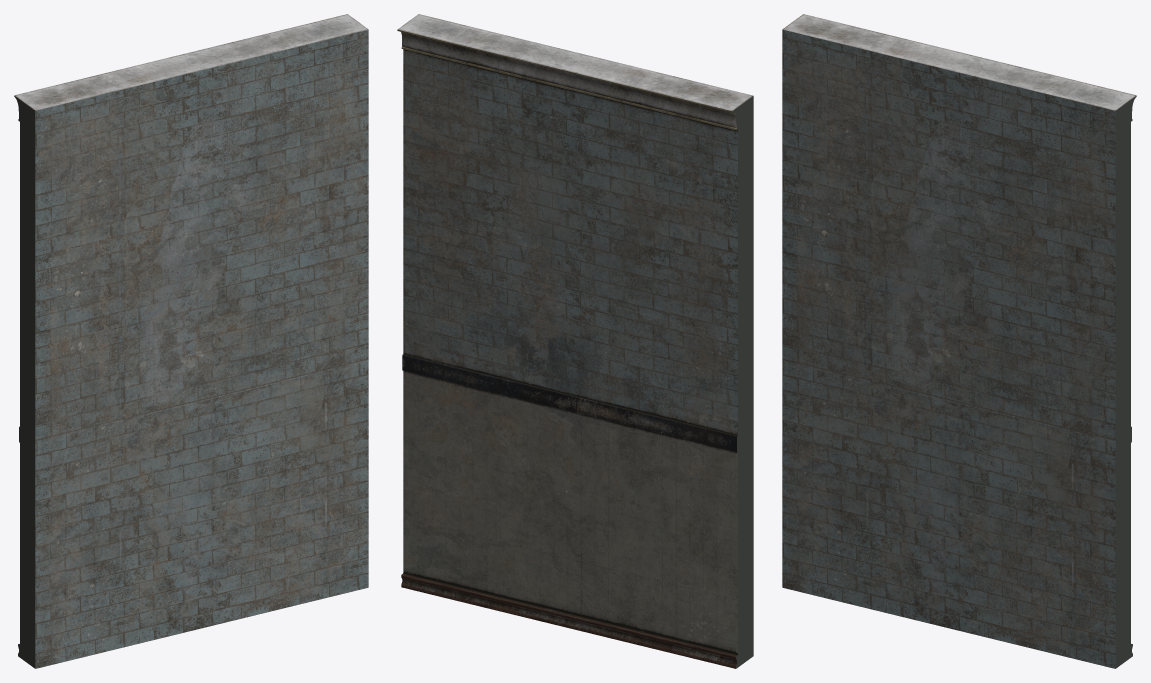
The model's file is wall_2.glb.
3 views of the same model, side by side, from view 1: azimuth 30°, elevation 25°; view 2: azimuth 150°, elevation 25°; view 3: azimuth 330°, elevation 25° (orthographic).
Visible parts, largest first — view 1: Null; view 2: Null; view 3: Null.
Part boxes in pixels (x1,y1,x2,y2): Null: (14,14,368,668); Null: (397,14,753,668); Null: (782,14,1136,668).
Size of the model in its own units: 2.5 by 4 by 0.275.
Materials: 1 (1 with a texture image).
